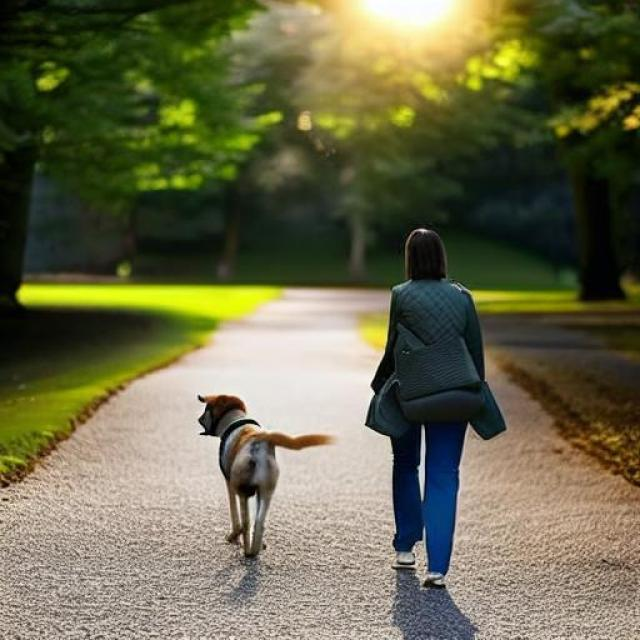Unleashed_Dog: (198, 376, 468, 560)
